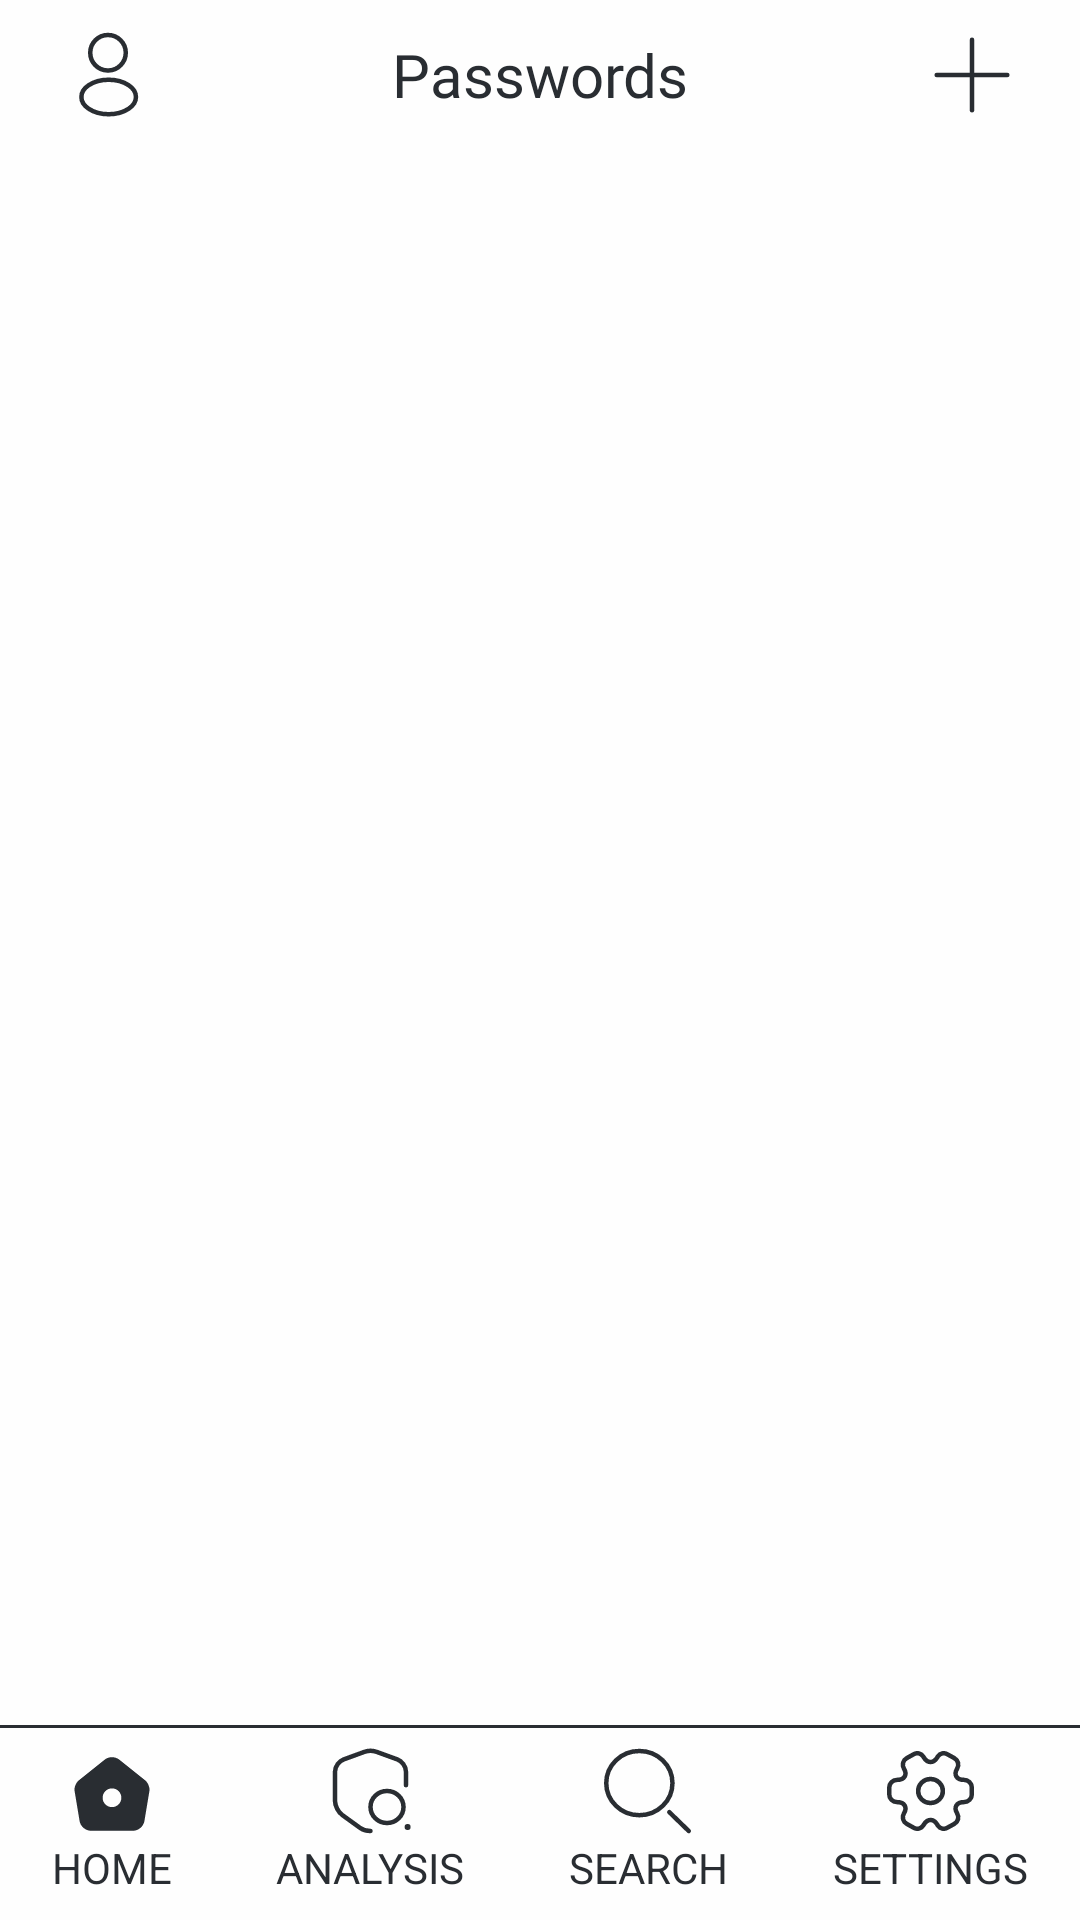

Icon bounding boxes for this 1080 × 1920 phone screenshot, format (x1, y1, x2, y2):
add: (934, 37, 1010, 113)
empty profile: (79, 32, 139, 117)
